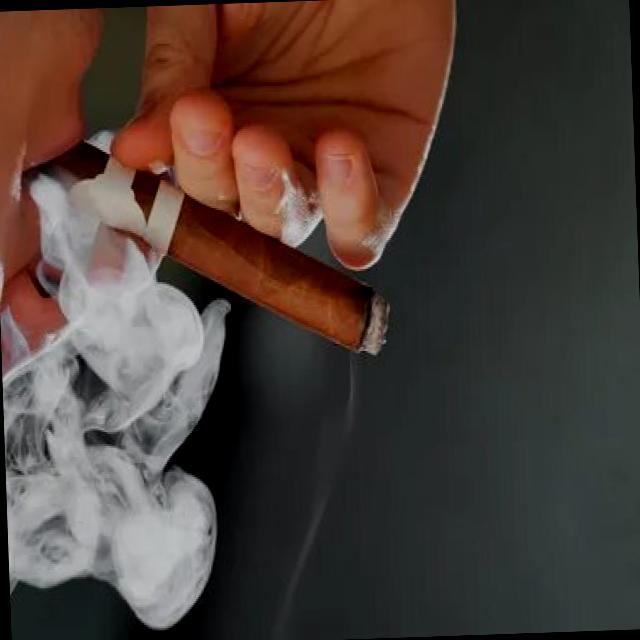smoke: (28, 131, 398, 372)
